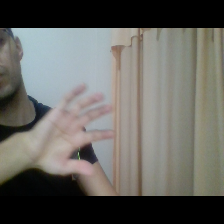left: (26, 74, 119, 179)
